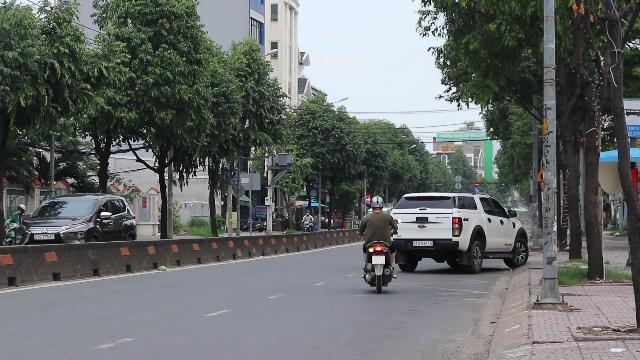helmet: (368, 194, 384, 210)
licenseplate: (372, 256, 384, 264)
motorcyclist: (358, 195, 398, 292)
